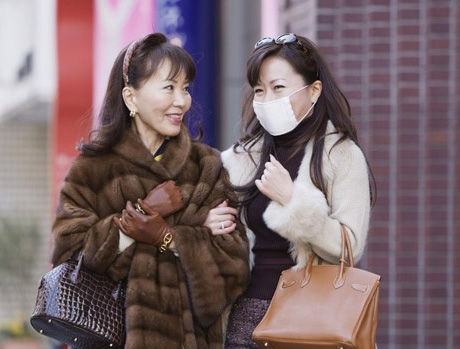face: (134, 63, 192, 134)
face_mask: (252, 61, 310, 131)
